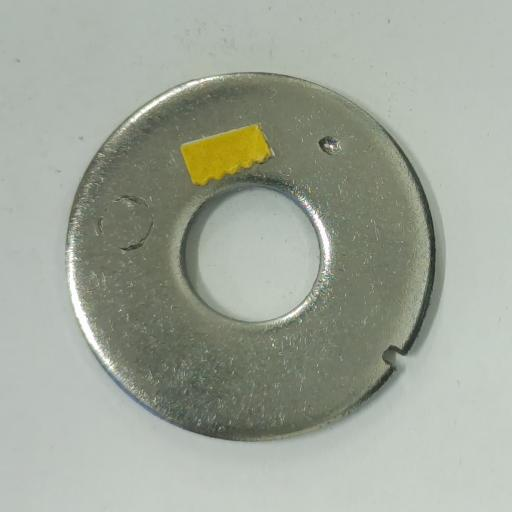burr: (382, 344, 405, 369)
